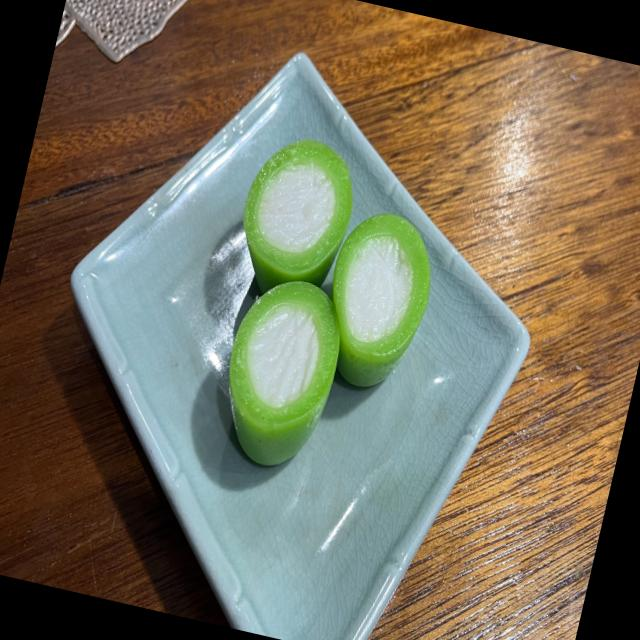nona-manis: (229, 280, 339, 466), (332, 213, 430, 387), (243, 139, 352, 293)
